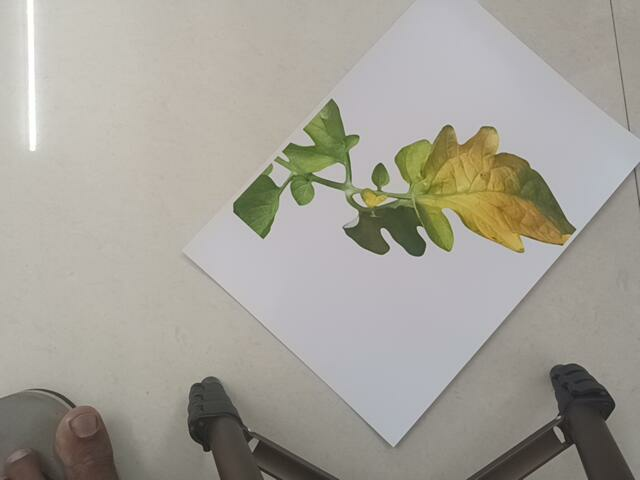Tomamto_Yellow_Disease: (230, 99, 585, 263)
